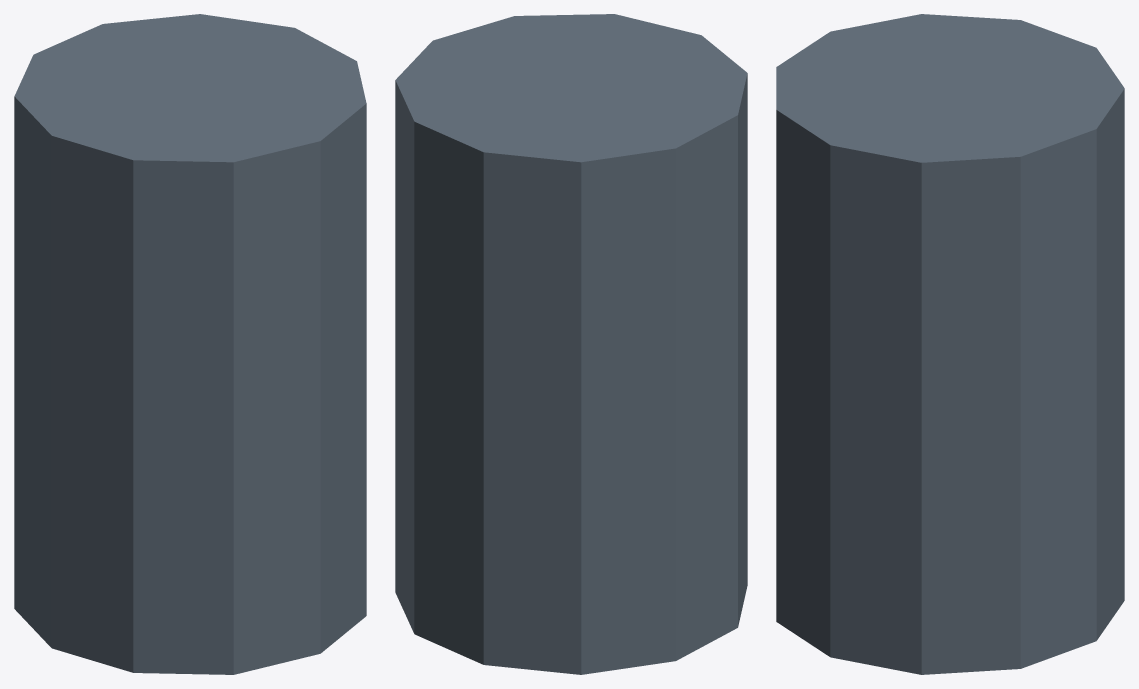
The model's file is Column07.fbx.
The picture shows the model from 3 angles, left to right: view 1: azimuth 30°, elevation 25°; view 2: azimuth 150°, elevation 25°; view 3: azimuth 270°, elevation 25°; orthographic projection.
Visible parts, largest first — view 1: Column07; view 2: Column07; view 3: Column07.
Boxes of the visible parts, x1,y1,x2,y2 form: Column07: (14,14,366,674); Column07: (395,14,747,674); Column07: (776,14,1124,674).
Bounding box in the file's own units: 33.65 × 54 × 33.31.
1 material, 1 textured.
